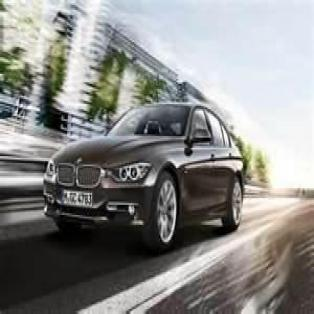Auto: (40, 77, 248, 259)
